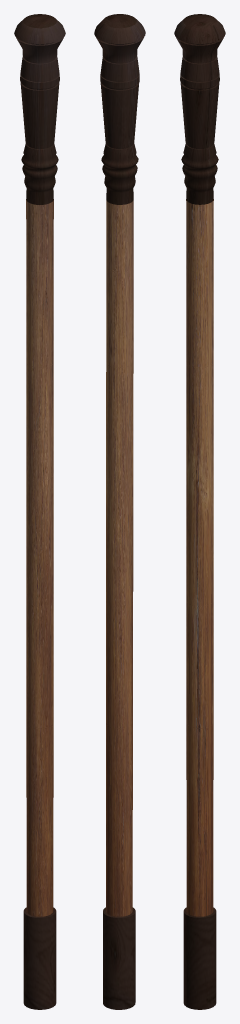
Rendered from Wooden Stick.fbx.
3 renders of one model, left to right at view 1: azimuth 90°, elevation 25°; view 2: azimuth 150°, elevation 25°; view 3: azimuth 270°, elevation 25°, orthographic.
Visible parts, largest first — view 1: pCylinder1; view 2: pCylinder1; view 3: pCylinder1.
Part boxes in pixels (bbox=[...]): pCylinder1: bbox=[14, 14, 65, 1009]; pCylinder1: bbox=[94, 14, 145, 1009]; pCylinder1: bbox=[174, 14, 225, 1009].
Size of the model in its own units: 0.5276 by 11.06 by 0.5276.
Materials: 2 (2 with a texture image).
